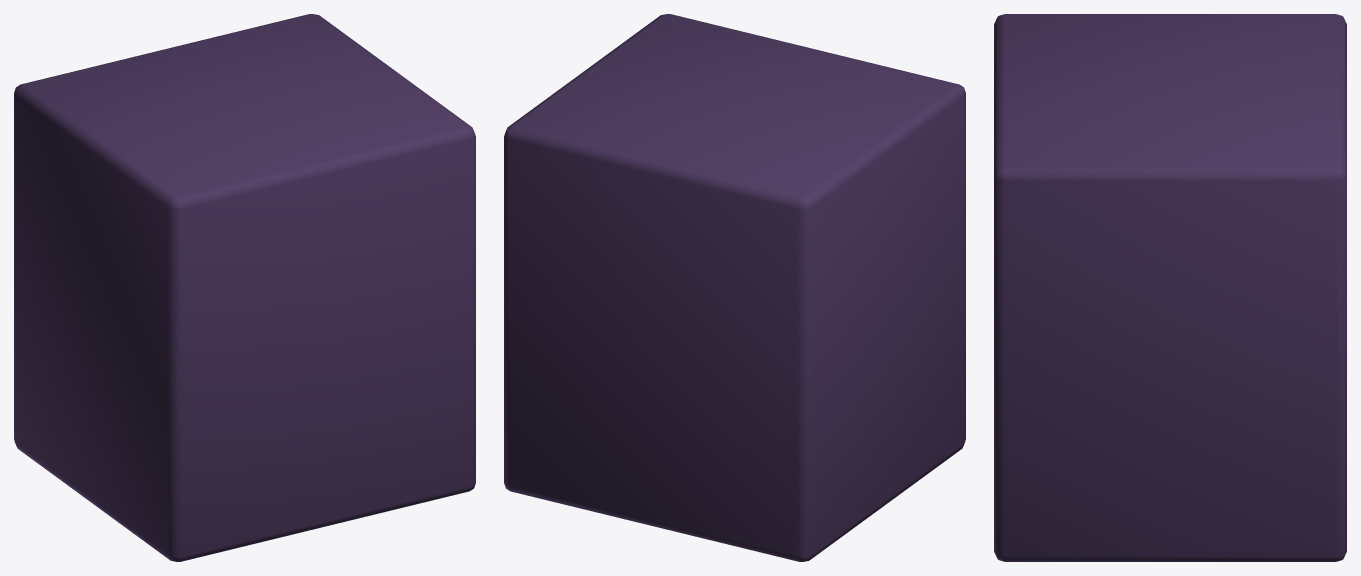
File: CubeTable.fbx
3 views of the same model, side by side, from view 1: azimuth 30°, elevation 25°; view 2: azimuth 150°, elevation 25°; view 3: azimuth 270°, elevation 25° (orthographic). The views are drawn at different scales.
Parts seen in each view (by area): view 1: SM_CubeTable__1_; view 2: SM_CubeTable__1_; view 3: SM_CubeTable__1_.
Part boxes in pixels (box(x1,y1,x2,y2)): SM_CubeTable__1_: box(14, 14, 475, 561); SM_CubeTable__1_: box(504, 14, 965, 561); SM_CubeTable__1_: box(994, 14, 1346, 561).
Bounding box in the file's own units: 34.91 × 39.75 × 32.19.
